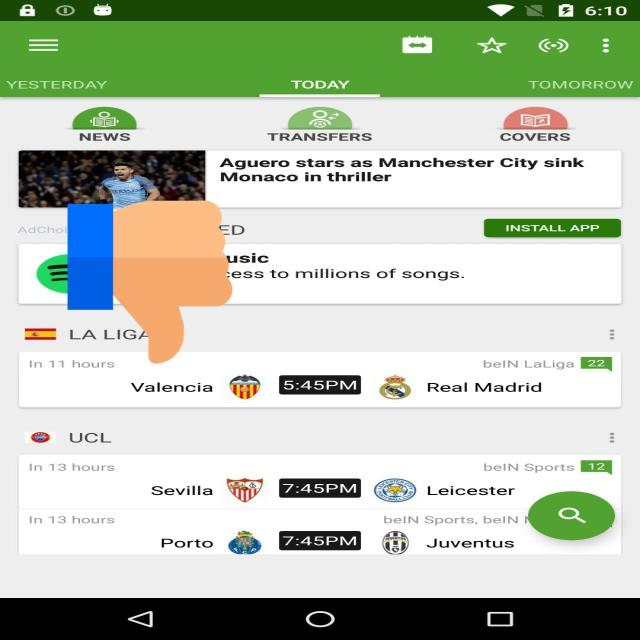obstruction: (68, 196, 232, 368)
